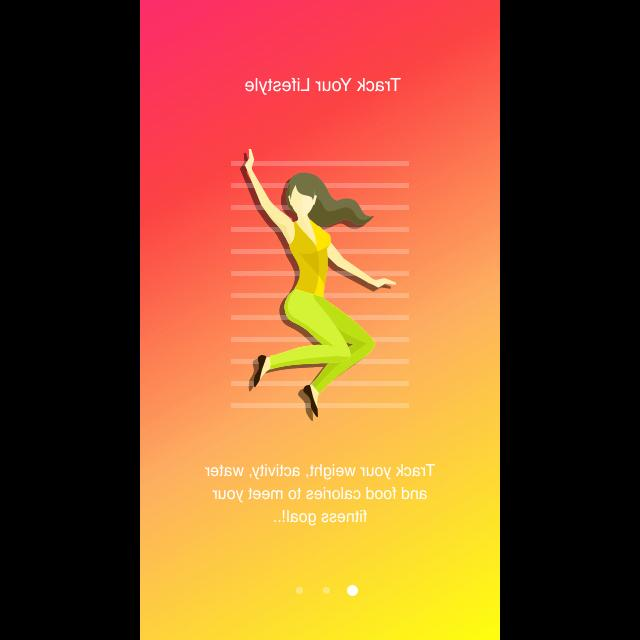image: (230, 150, 410, 422)
pageindicator: (294, 584, 358, 598)
text: (204, 463, 436, 527), (244, 78, 401, 98)
